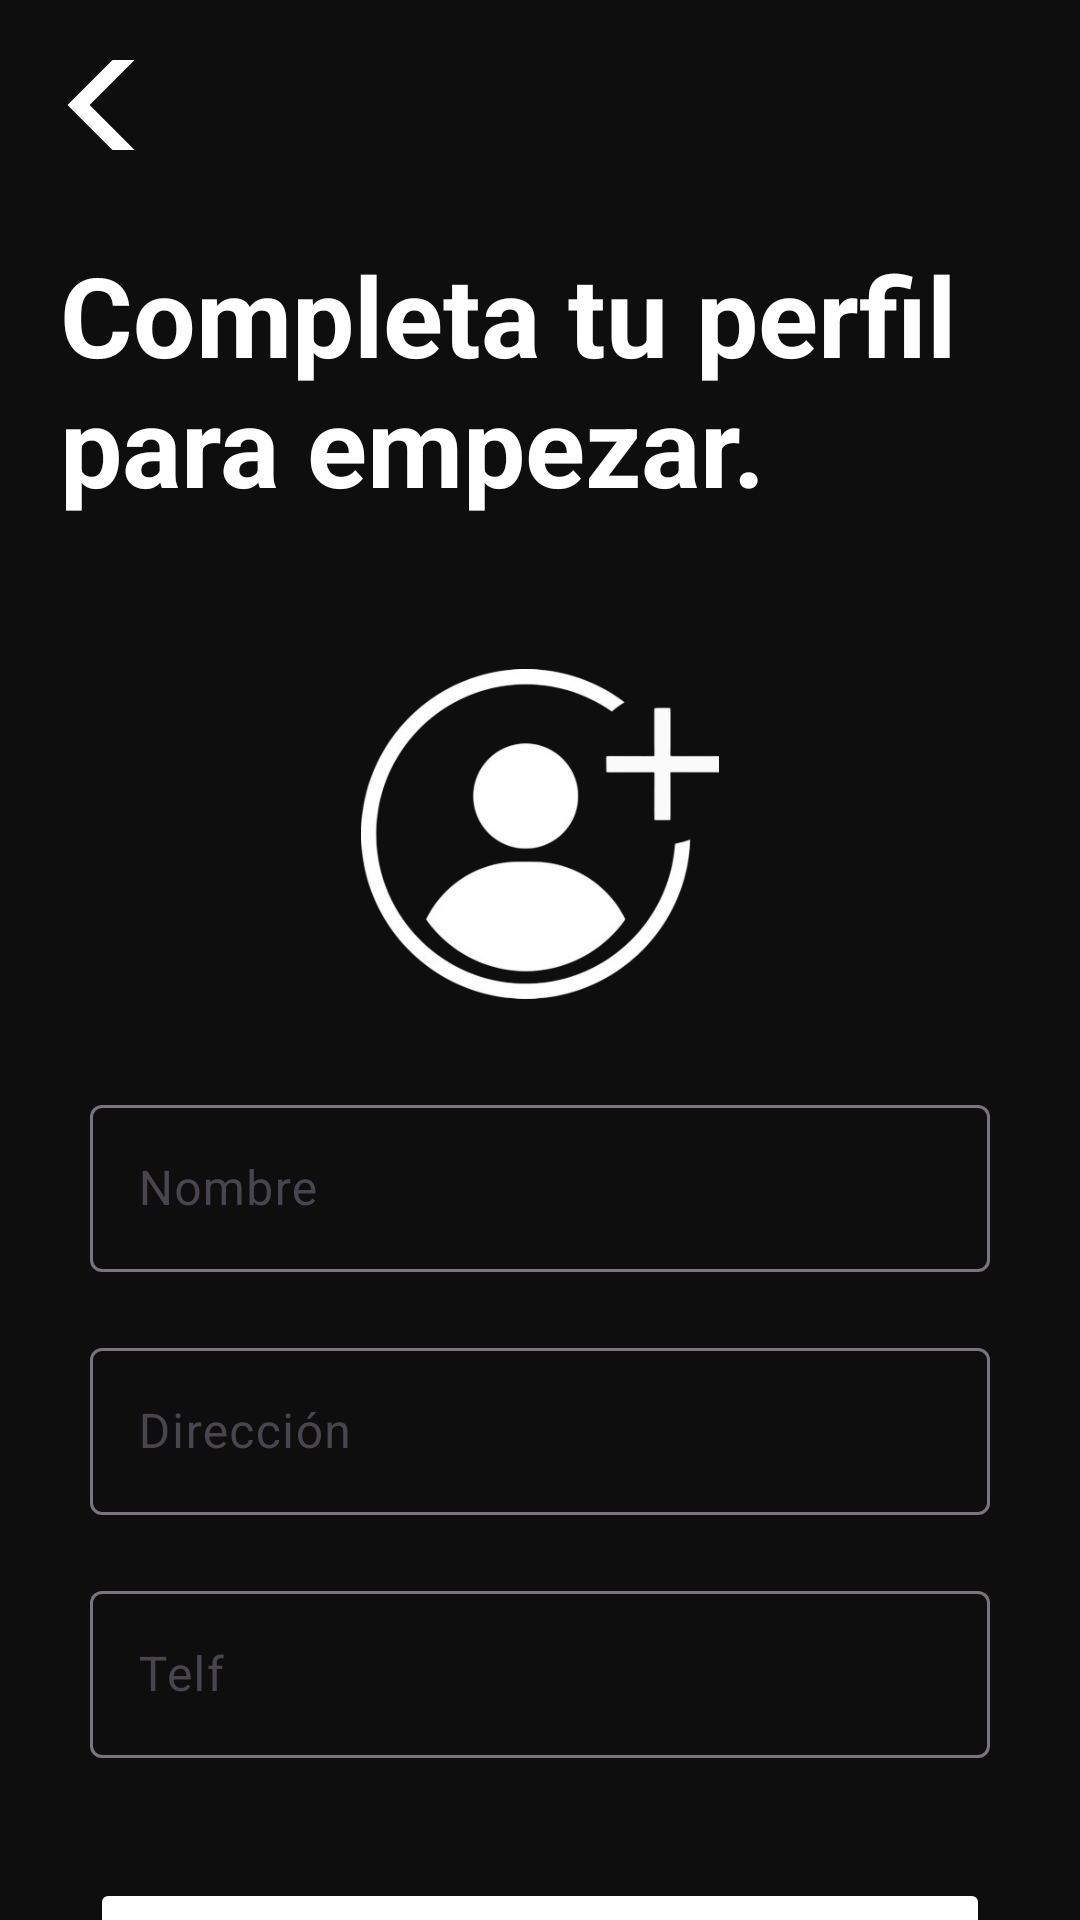

Locate icon controls on the screen. Image size 1080px×1920px, boxes as (x1, y1, x2, y2).
Go back: (67, 60, 135, 150)
